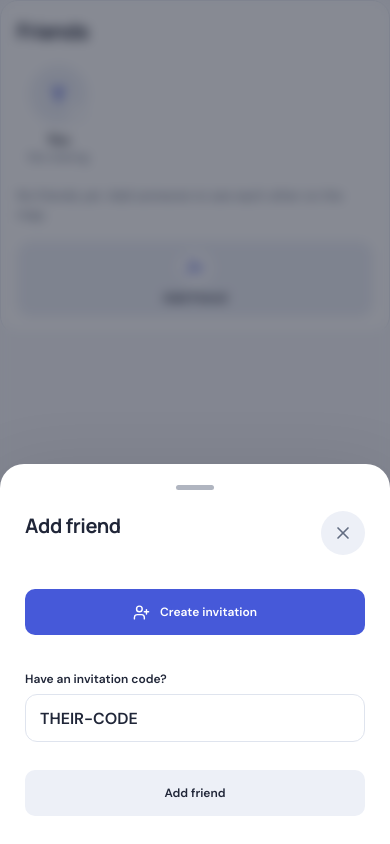
Test: Friends › accepts an invitation code and then offers, but never enables, location sharing
Expected: the field with placeholder "Paste their code" holds "THEIR-CODE", [25,694,365,742]
Click the button "Add friend": {"x": 195, "y": 793} [25,770,365,816]
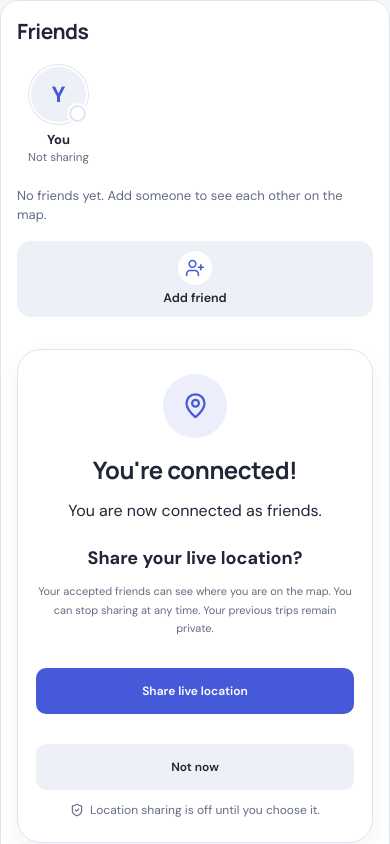
Now the dialog named "Choose live location sharing" is shown, box [17,349,373,843]
